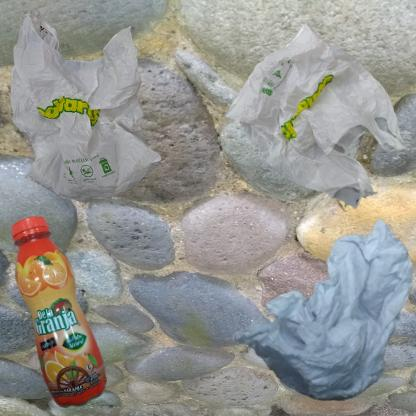bolsa: (213, 10, 416, 226), (10, 10, 162, 203)
botella: (10, 213, 111, 416)
papel: (213, 213, 416, 416)
